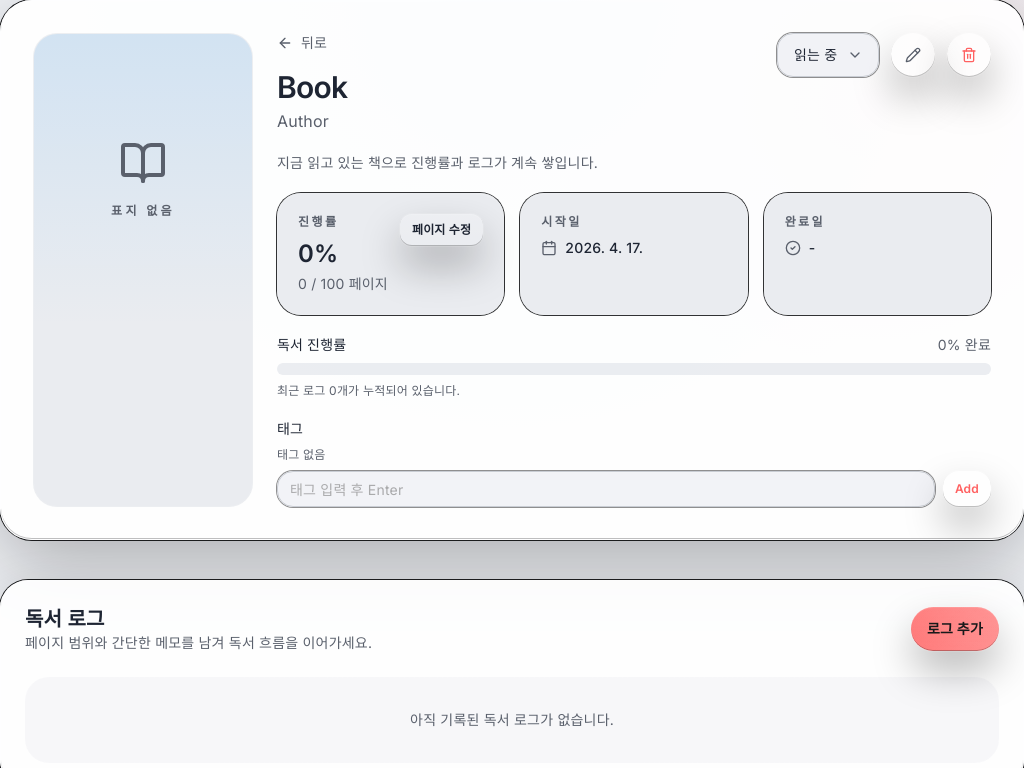
it: BookDetailView › shows a validation error for invalid reading logs
Click the button "로그 추가".
click(955, 629)  # box [911, 607, 999, 651]
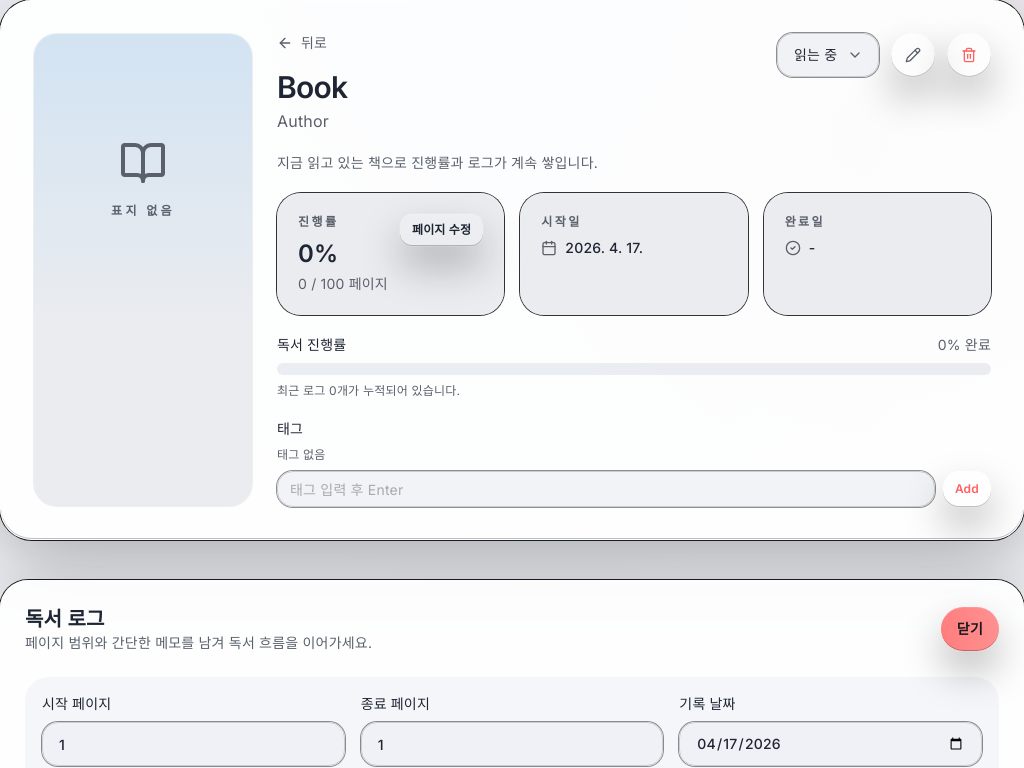
Expected: the number field labelled "시작 페이지" is shown
Expected: the number field labelled "종료 페이지" is shown, [361, 722, 663, 766]
Replace the text in the number field labelled "시작 페이지" with "50" at (193, 744), box [42, 722, 345, 766]
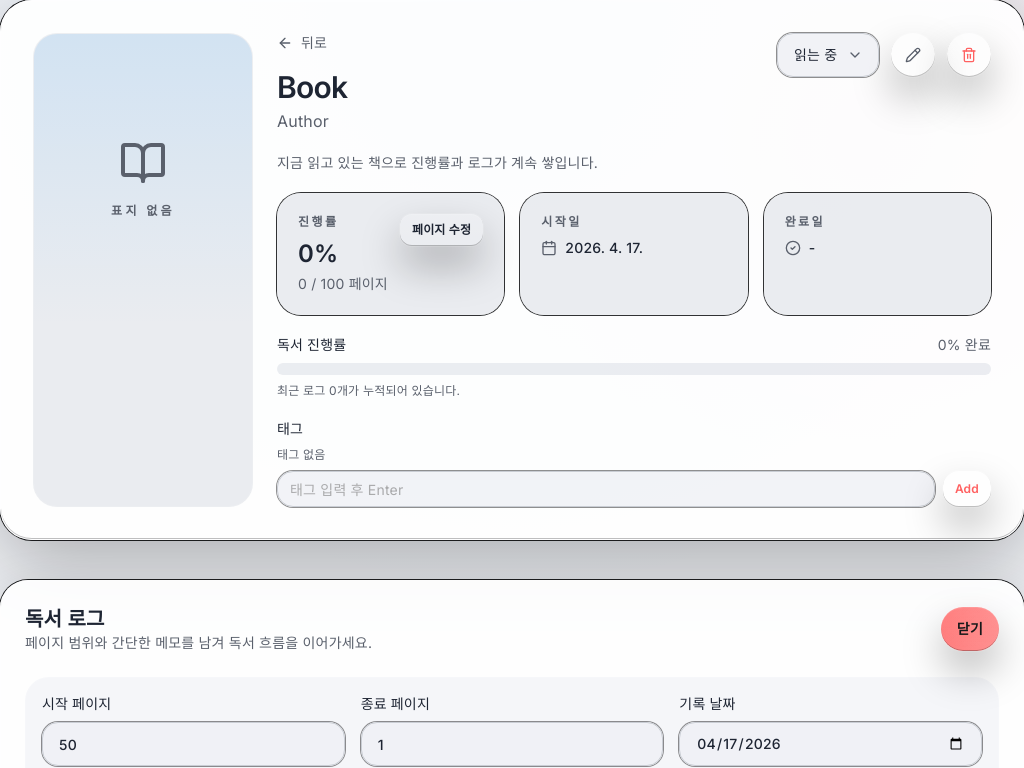
Replace the text in the number field labelled "종료 페이지" with "10" at (512, 744), box [361, 722, 663, 766]
(page scrolled)
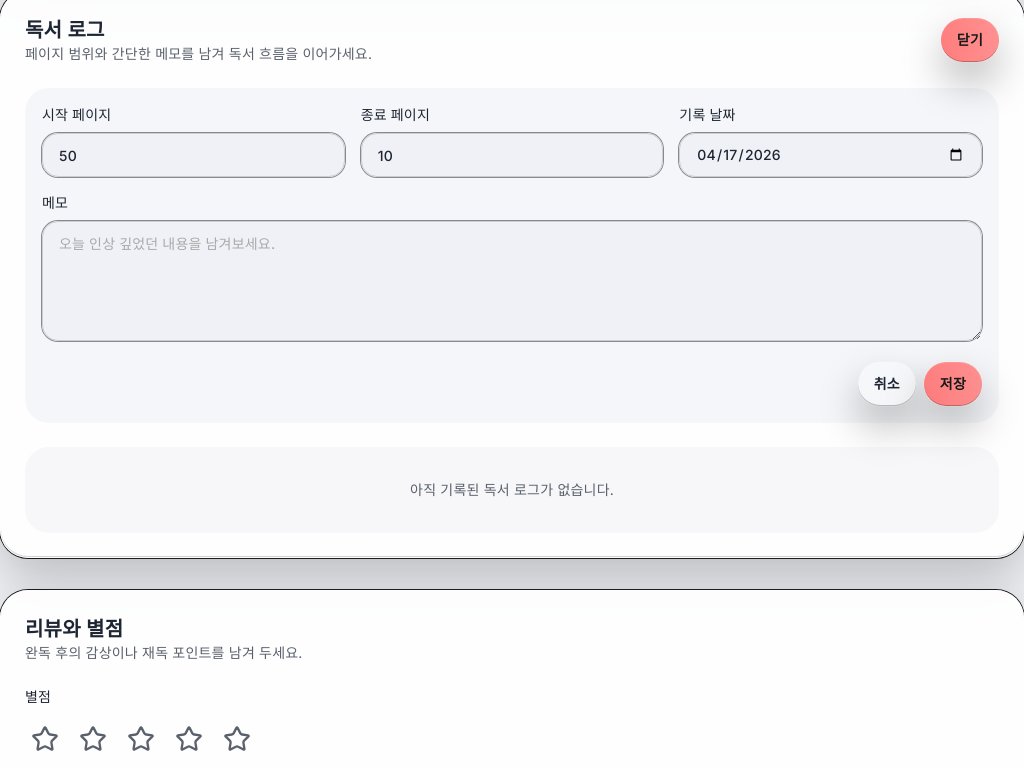
Click the button "저장".
click(953, 384)  # box [924, 362, 982, 406]
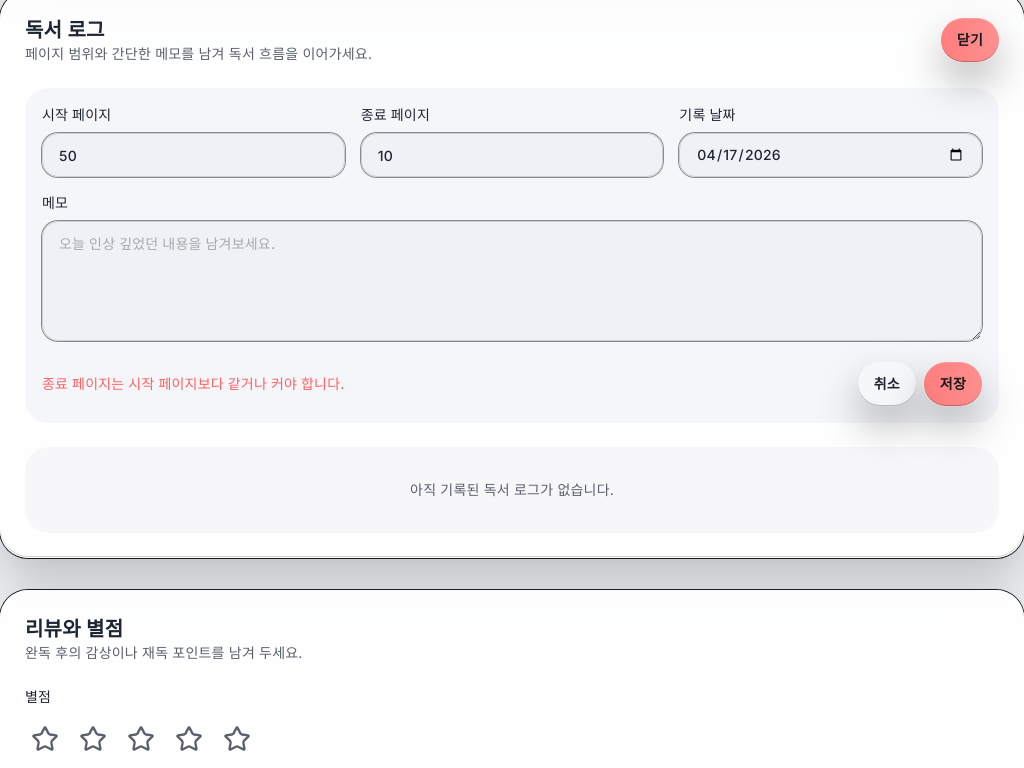
Expected: the text "종료 페이지는 시작 페이지보다 같거나 커야 합니다." is shown, [42, 374, 345, 394]
